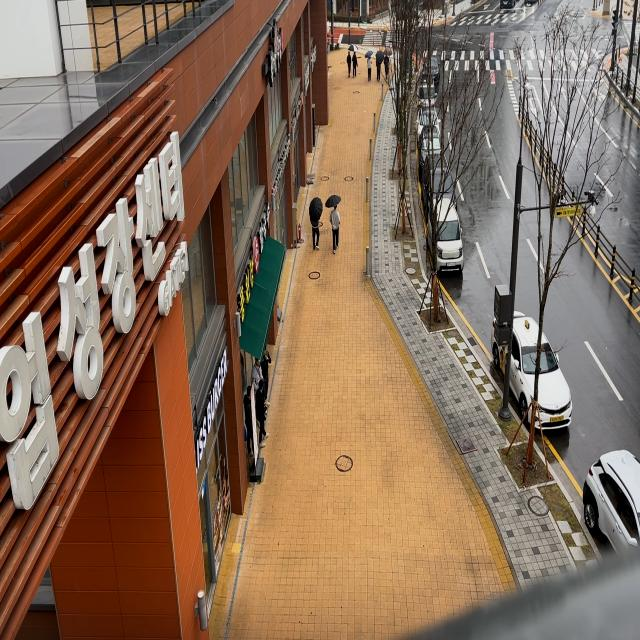Car: (486, 304, 580, 448), (569, 440, 640, 573), (424, 190, 468, 276), (417, 155, 462, 217), (414, 106, 444, 139), (416, 128, 441, 164), (420, 54, 443, 85), (418, 76, 437, 110)
